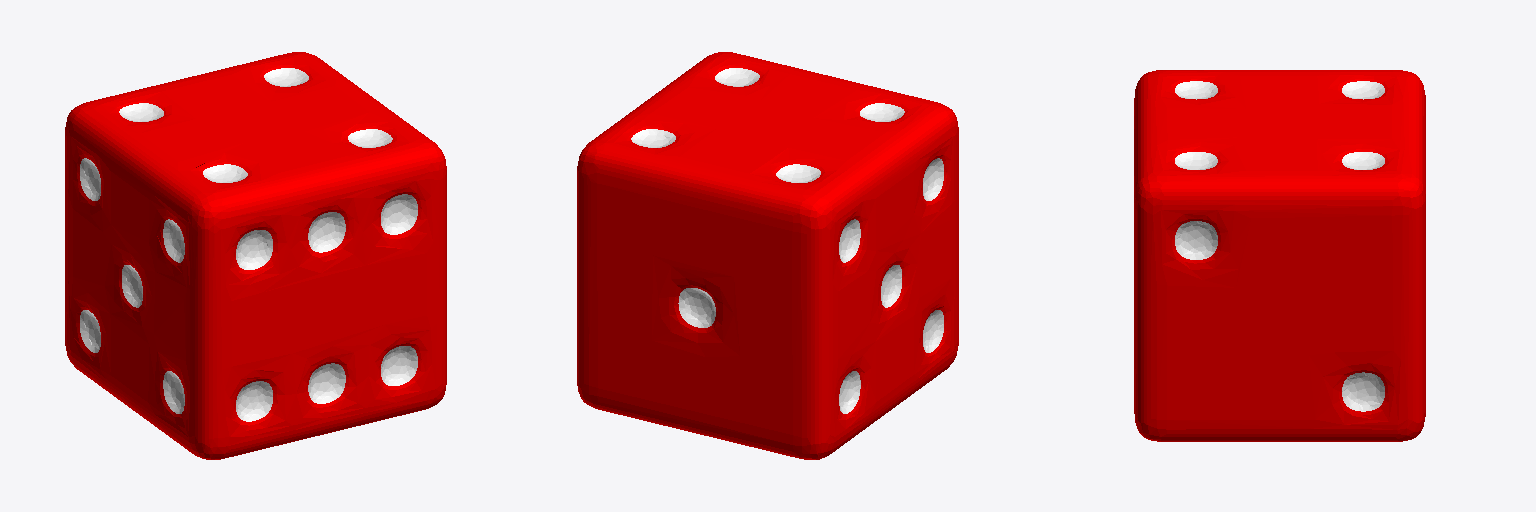
The model's file is RedDice.obj.
The picture shows the model from 3 angles: view 1: azimuth 30°, elevation 25°; view 2: azimuth 150°, elevation 25°; view 3: azimuth 270°, elevation 25°; orthographic projection.
Parts seen in each view (by area): view 1: Dice_Red_Pivot.001; view 2: Dice_Red_Pivot.001; view 3: Dice_Red_Pivot.001.
Boxes of the visible parts, box(x1,y1,x2,y2) form: Dice_Red_Pivot.001: box(65, 52, 446, 459); Dice_Red_Pivot.001: box(577, 52, 958, 459); Dice_Red_Pivot.001: box(1134, 70, 1425, 441).
Bounding box in the file's own units: 10 × 10 × 10.